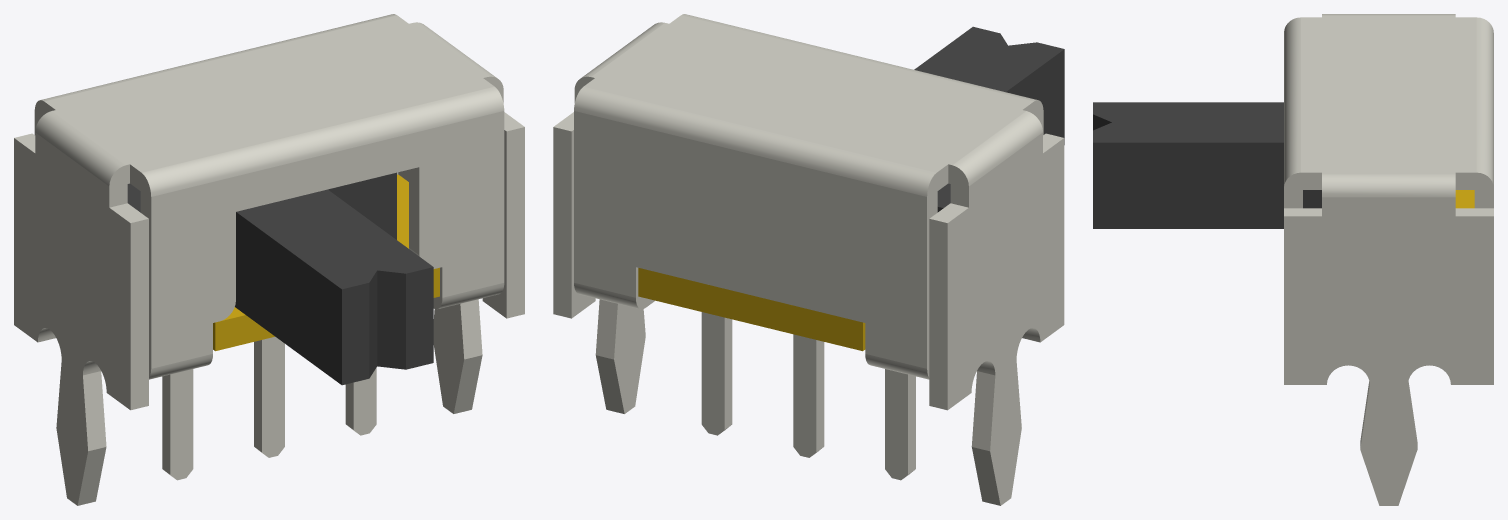
Rendered from kc-sw_slide_spdt_angled_ck_os102011ma1q.glb.
3 renders of one model, left to right at view 1: azimuth 30°, elevation 25°; view 2: azimuth 150°, elevation 25°; view 3: azimuth 270°, elevation 25°, orthographic. The views are drawn at different scales.
Parts seen in each view (by area): view 1: 0.6666666666666666_0.6666666666666666_0.5833333333333334_0.8, 0.08333333333333333_0.08333333333333333_0.08333333333333333_, 0.6666666666666666_0.4166666666666667_0_0; view 2: 0.6666666666666666_0.6666666666666666_0.5833333333333334_0.8, 0.08333333333333333_0.08333333333333333_0.08333333333333333_, 0.6666666666666666_0.4166666666666667_0_0; view 3: 0.6666666666666666_0.6666666666666666_0.5833333333333334_0.8, 0.08333333333333333_0.08333333333333333_0.08333333333333333_.
Boxes of the visible parts, x1=… form: 0.6666666666666666_0.6666666666666666_0.5833333333333334_0.8: x1=14, y1=14, x2=524, y2=505; 0.08333333333333333_0.08333333333333333_0.08333333333333333_: x1=127, y1=172, x2=433, y2=385; 0.6666666666666666_0.4166666666666667_0_0: x1=213, y1=174, x2=439, y2=351; 0.6666666666666666_0.6666666666666666_0.5833333333333334_0.8: x1=553, y1=14, x2=1064, y2=505; 0.08333333333333333_0.08333333333333333_0.08333333333333333_: x1=914, y1=26, x2=1064, y2=212; 0.6666666666666666_0.4166666666666667_0_0: x1=638, y1=268, x2=865, y2=351; 0.6666666666666666_0.6666666666666666_0.5833333333333334_0.8: x1=1284, y1=14, x2=1493, y2=505; 0.08333333333333333_0.08333333333333333_0.08333333333333333_: x1=1093, y1=102, x2=1321, y2=228.
Bounding box in the file's own units: 0.86 × 0.75 × 0.84.
